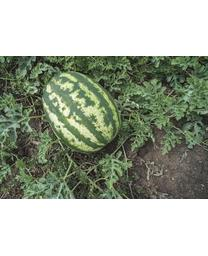watermelon: (42, 70, 122, 154)
